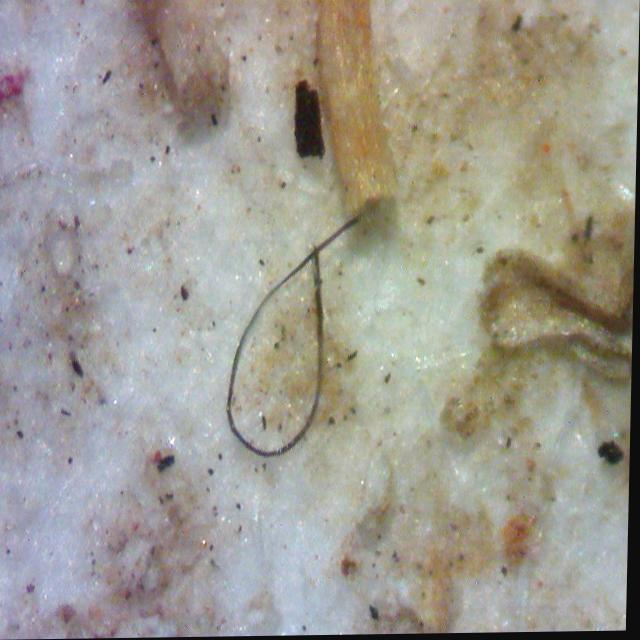microplastic: (214, 189, 367, 470)
